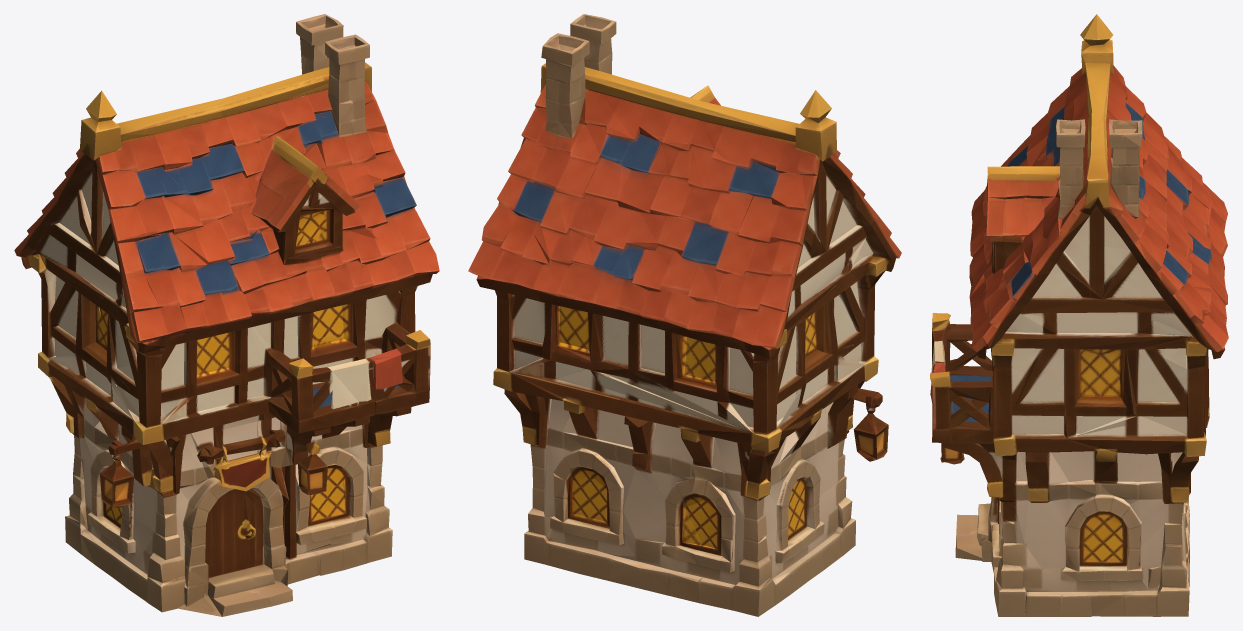
Rendered from TWN_STR_house_big_A.glb.
The picture shows the model from 3 angles, left to right: view 1: azimuth 30°, elevation 25°; view 2: azimuth 150°, elevation 25°; view 3: azimuth 270°, elevation 25°; orthographic projection.
Visible parts, largest first — view 1: Mesh_0; view 2: Mesh_0; view 3: Mesh_0.
Part boxes in pixels (x1,y1,x2,y2): Mesh_0: [14, 14, 439, 616]; Mesh_0: [468, 14, 901, 616]; Mesh_0: [930, 14, 1228, 616].
Size of the model in its own units: 1.26 by 1.9 by 1.06.
1 material, 1 textured.
